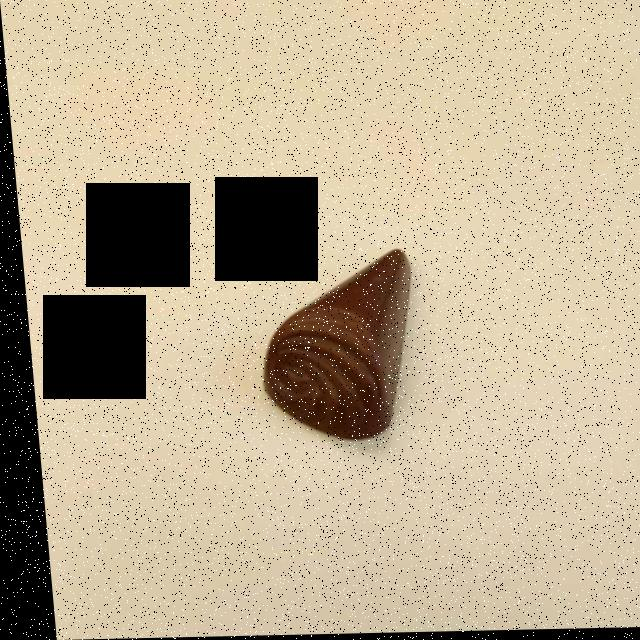praline: (256, 259, 408, 442)
